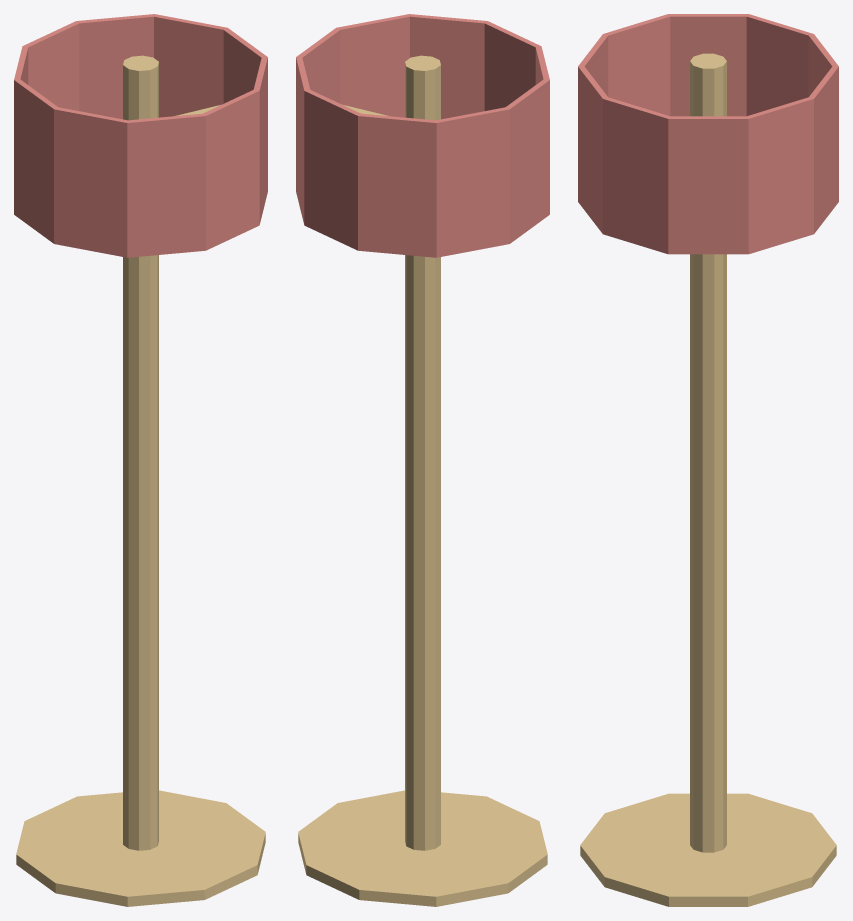
File: tallLamp.fbx
3 views of the same model, side by side, from view 1: azimuth 30°, elevation 25°; view 2: azimuth 150°, elevation 25°; view 3: azimuth 270°, elevation 25° (orthographic).
Visible parts, largest first — view 1: Circle.001, Circle; view 2: Circle.001, Circle; view 3: Circle.001, Circle.
Boxes of the visible parts, x1,y1,x2,y2 form: Circle.001: [14, 14, 267, 257]; Circle: [16, 55, 265, 906]; Circle.001: [296, 14, 549, 257]; Circle: [298, 55, 547, 906]; Circle.001: [578, 14, 838, 254]; Circle: [580, 53, 836, 906].
Size of the model in its own units: 193 by 683 by 203.
